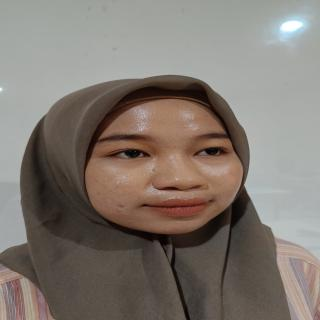Netral: (67, 88, 259, 242)
